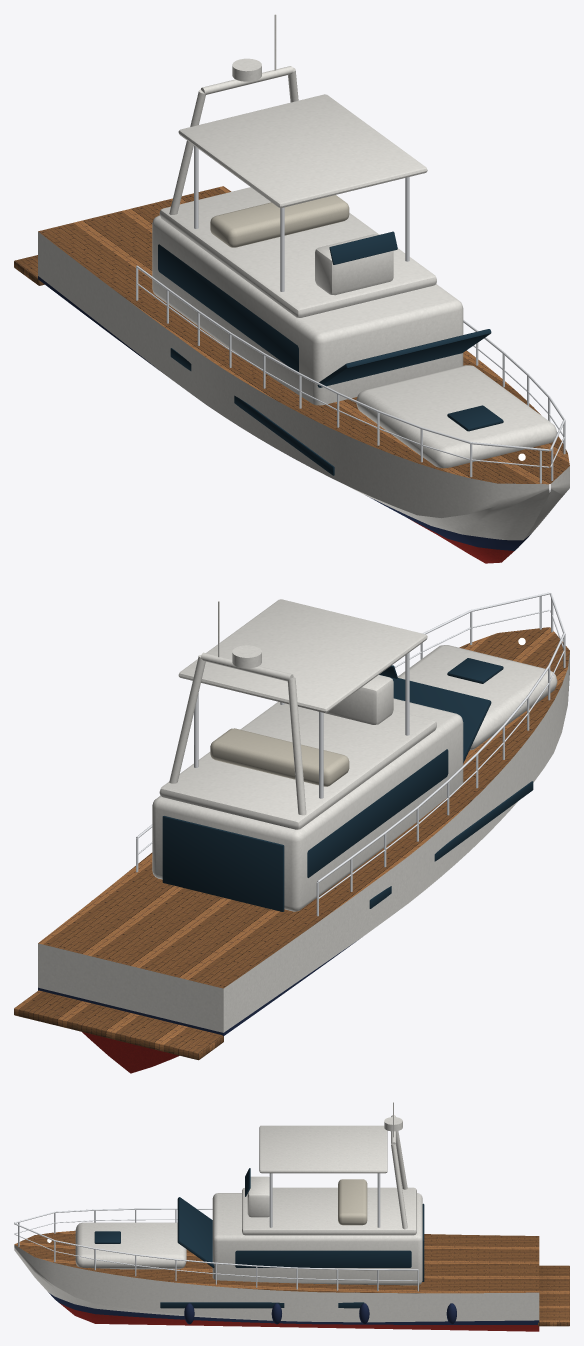
The model's file is yacht-1.glb.
3 views of the same model, one above another, from view 1: azimuth 30°, elevation 25°; view 2: azimuth 150°, elevation 25°; view 3: azimuth 270°, elevation 25° (orthographic). The views are drawn at different scales.
Visible parts, largest first — view 1: yacht-1; view 2: yacht-1; view 3: yacht-1.
Part boxes in pixels (bbox=[...]): yacht-1: bbox=[14, 14, 569, 563]; yacht-1: bbox=[14, 592, 569, 1073]; yacht-1: bbox=[14, 1102, 569, 1331].
Bounding box in the file's own units: 5.29 × 9 × 19.07.
9 materials, 4 textured.
